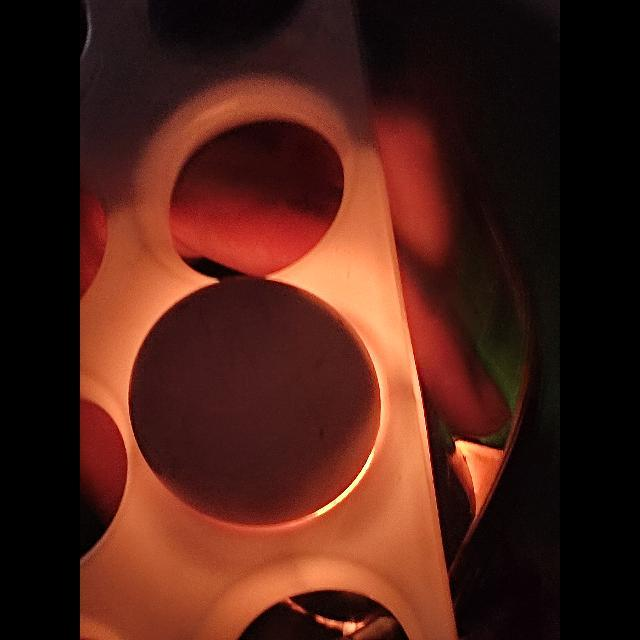Fertile: (127, 276, 385, 528)
